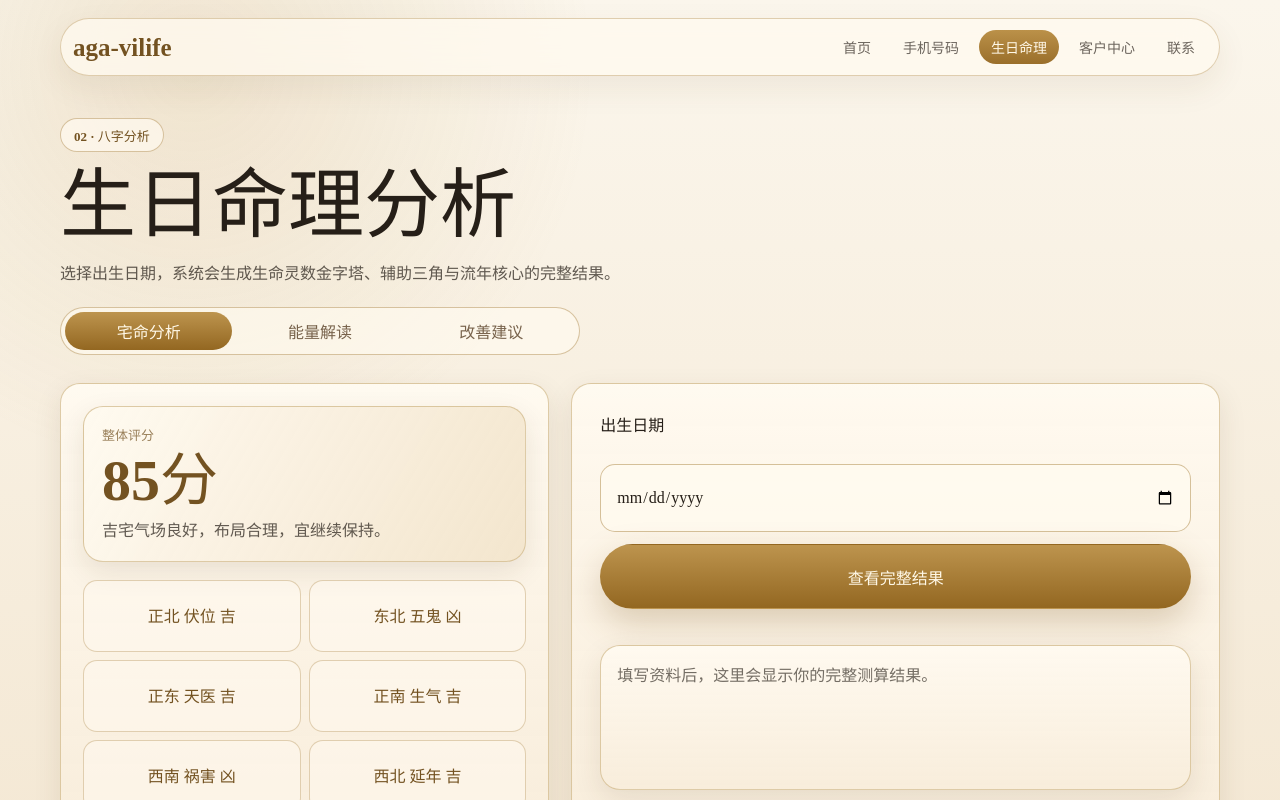
Test: App calculator routes › shows the full birthday result on the birthday page
Type "1999-05-27" into the date field labelled "出生日期" at [896, 498], box [600, 464, 1191, 532]
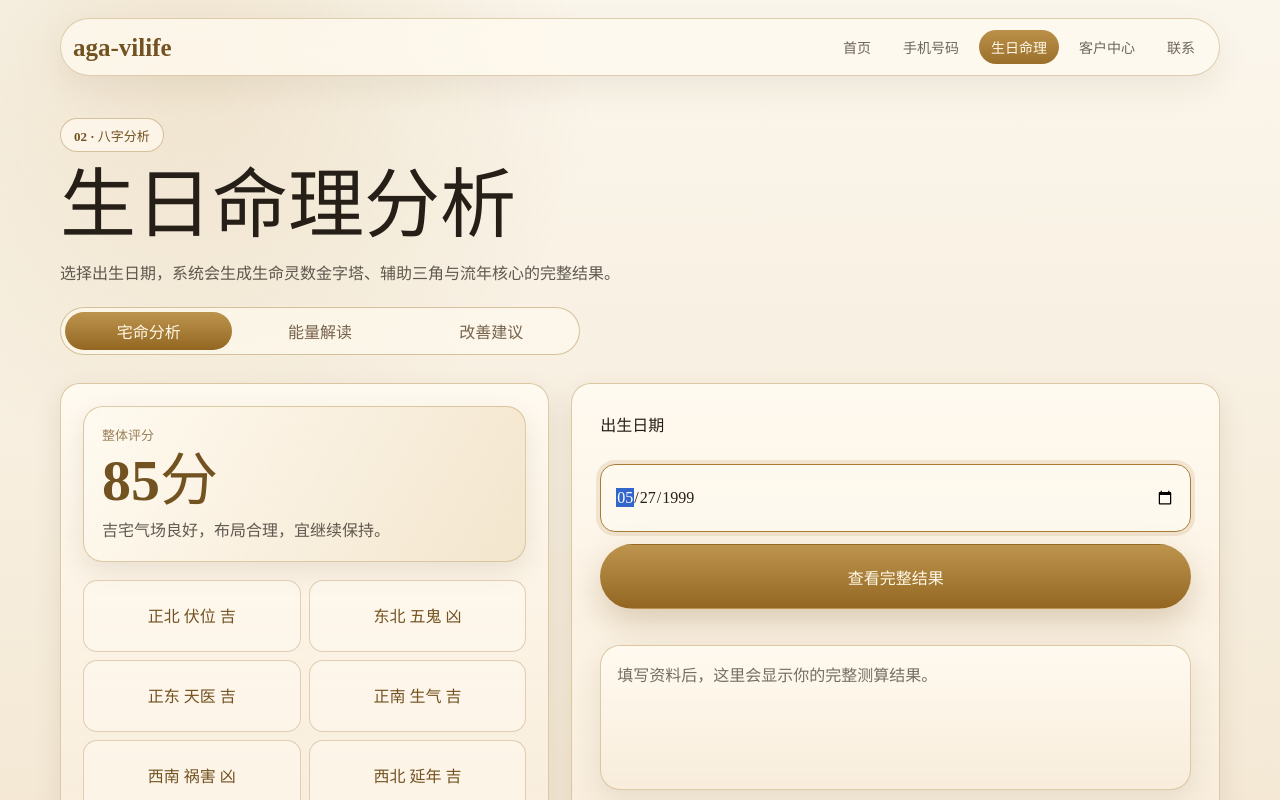
Click the button "查看完整结果" at [896, 577], box [600, 544, 1191, 609]
(page scrolled)
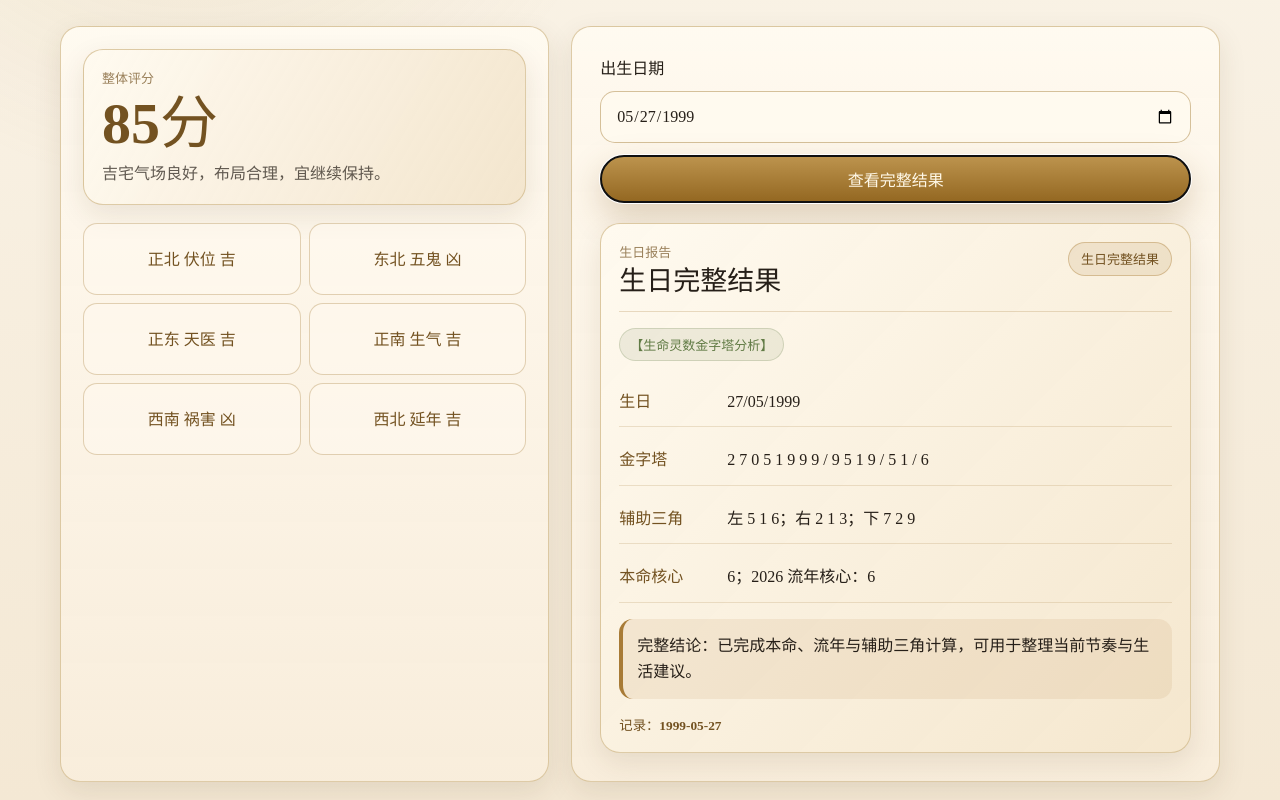
Now the text "生日完整结果" below "生日报告" is shown, box [619, 266, 781, 296]
Now the text "完整结论：已完成本命、流年与辅助三角计算，可用于整理当前节奏与生活建议。" is shown, box [619, 619, 1172, 699]
